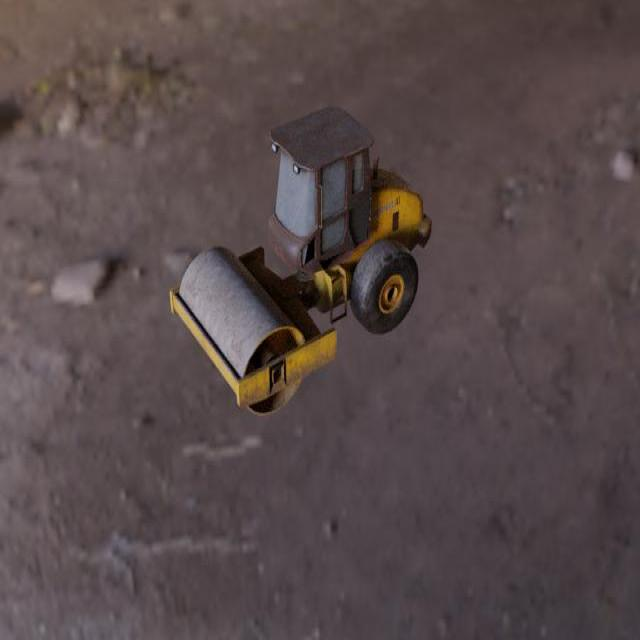Roller: (169, 104, 432, 415)
